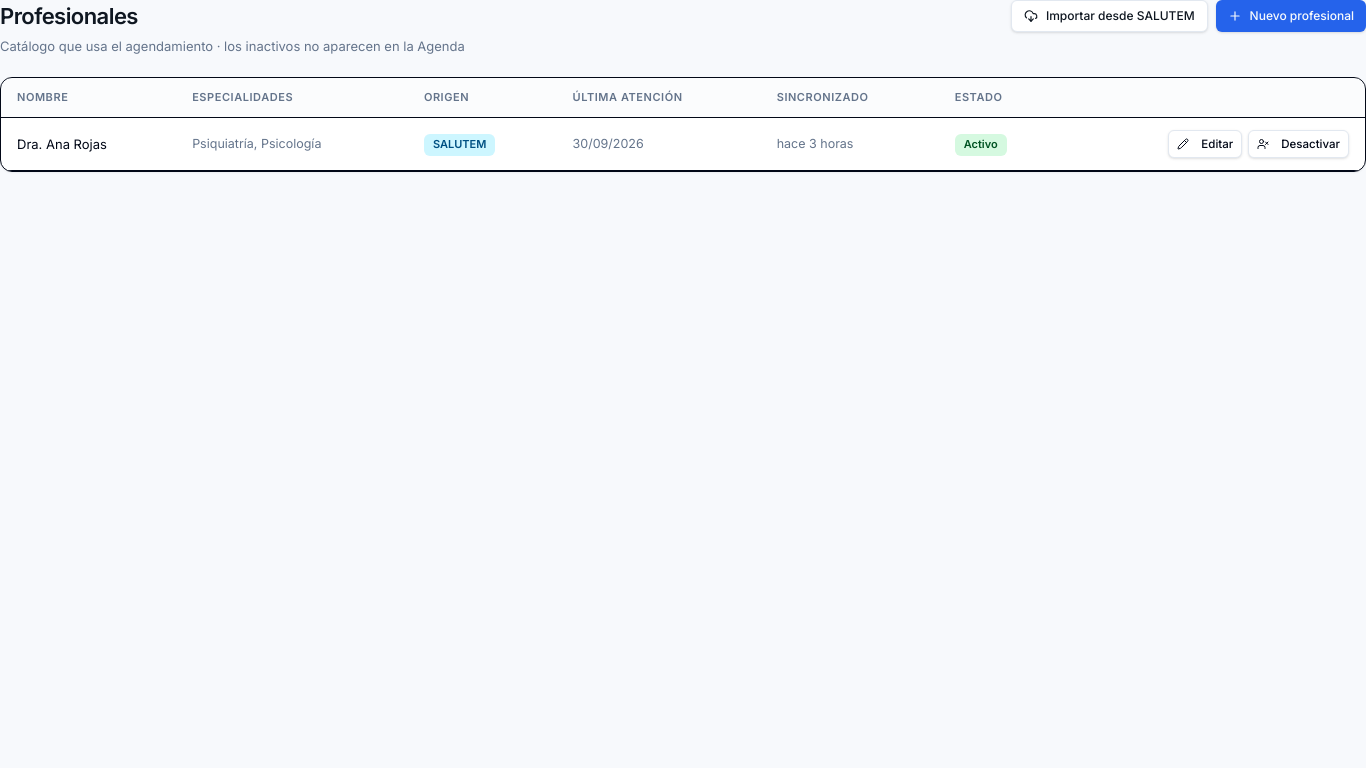
Test: ProfesionalesPage › al hacer clic en la fila abre el detalle con la actividad y link al ingreso
This screenshot has width=1366, height=768.
Click the row with test id "row-prof-7".
click(683, 144)  # box [1,118,1365,171]
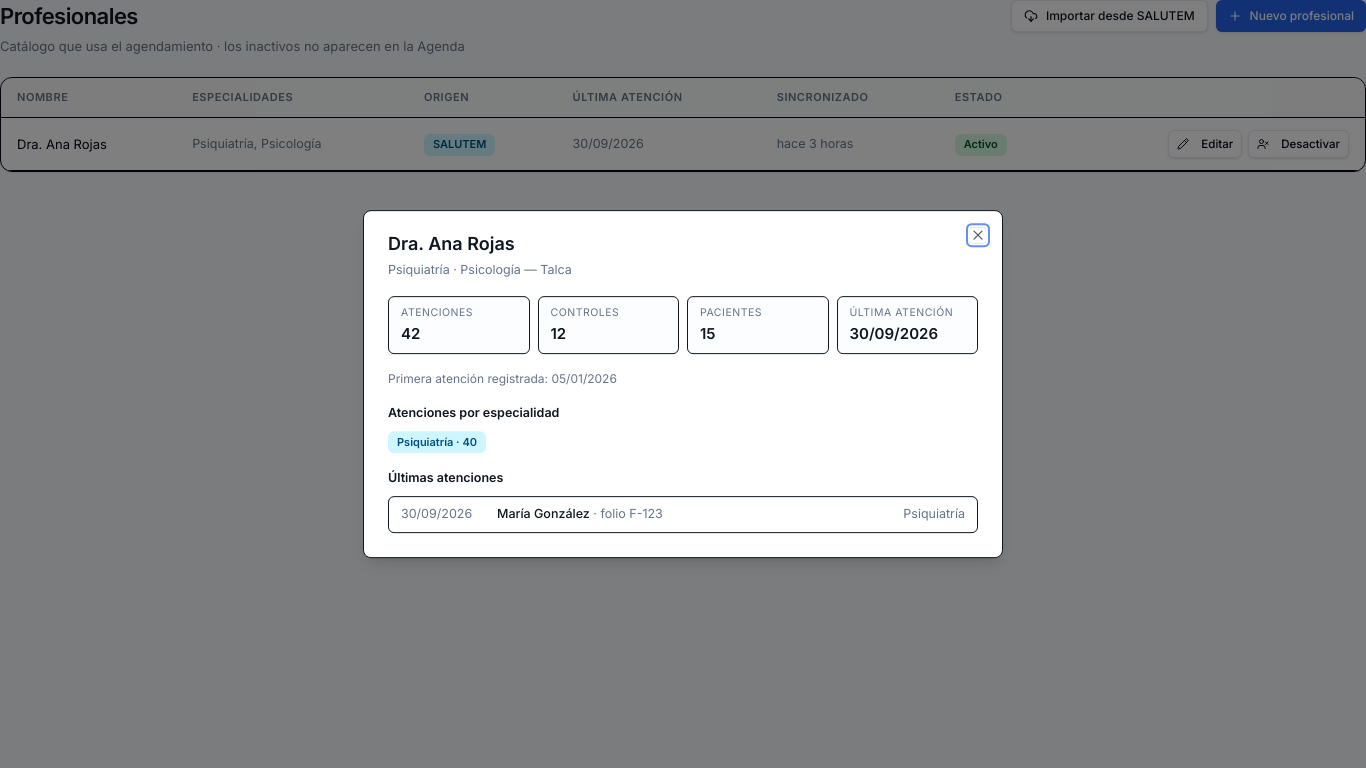
Expected: the text "42" is shown, [401,324,420,343]
Expected: the text "Psiquiatría · 40" is shown, [388,431,486,453]
Expected: the text "· folio F-123" is shown, [590,506,663,521]
